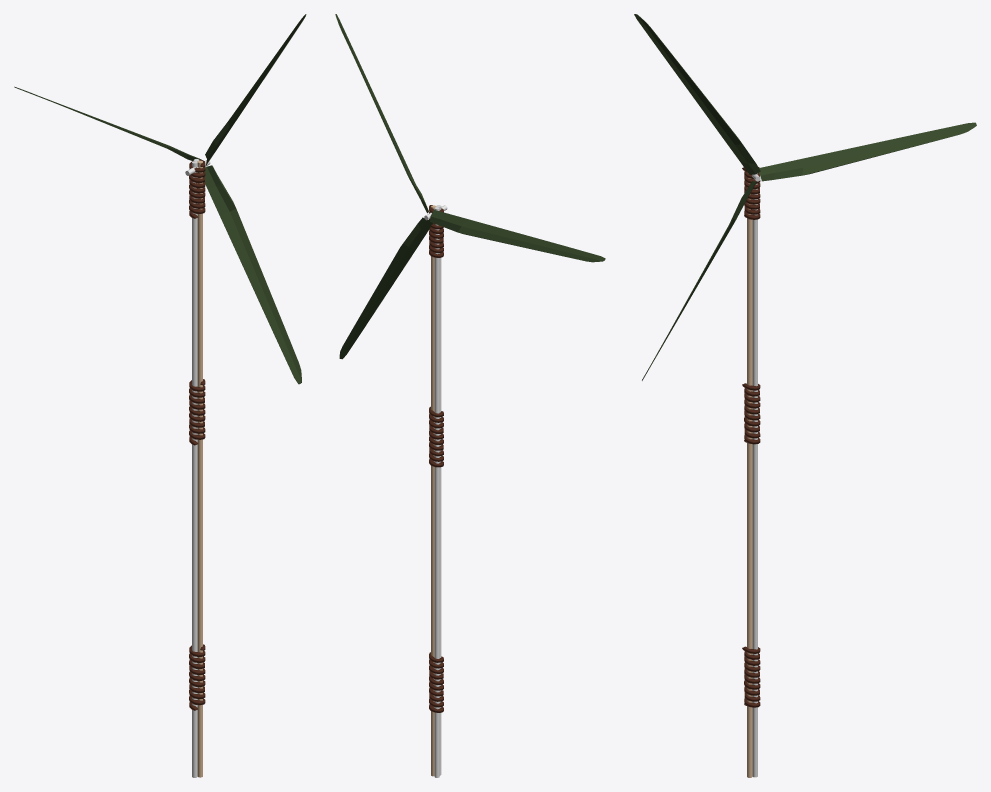
Rendered from Turbina.fbx.
3 renders of one model, left to right at view 1: azimuth 30°, elevation 25°; view 2: azimuth 210°, elevation 25°; view 3: azimuth 270°, elevation 25°, orthographic. The views are drawn at different scales.
Visible parts, largest first — view 1: Plane.015, Cylinder.010, Cylinder.011, Plane.013, TURBINE ROPE.006, TURBINE ROPE.008, TURBINE ROPE.007, Plane.014; view 2: Cylinder.013, Plane.014, Plane.015, Cylinder.010, Cylinder.011, Plane.013, TURBINE ROPE.008, TURBINE ROPE.006, TURBINE ROPE.007; view 3: Plane.014, Cylinder.010, Cylinder.013, Plane.013, TURBINE ROPE.006, TURBINE ROPE.008, Plane.015, TURBINE ROPE.007.
Part boxes in pixels (bbox=[...]): Plane.015: bbox=[204, 165, 301, 384]; Cylinder.010: bbox=[197, 160, 202, 777]; Cylinder.011: bbox=[192, 161, 197, 777]; Plane.013: bbox=[205, 14, 306, 165]; TURBINE ROPE.006: bbox=[189, 379, 205, 445]; TURBINE ROPE.008: bbox=[189, 644, 205, 710]; TURBINE ROPE.007: bbox=[189, 160, 205, 218]; Plane.014: bbox=[14, 86, 203, 160]; Cylinder.013: bbox=[434, 207, 439, 777]; Plane.014: bbox=[430, 210, 605, 262]; Plane.015: bbox=[339, 217, 432, 359]; Cylinder.010: bbox=[431, 205, 435, 776]; Cylinder.011: bbox=[436, 205, 441, 775]; Plane.013: bbox=[335, 14, 428, 213]; TURBINE ROPE.008: bbox=[429, 652, 443, 712]; TURBINE ROPE.006: bbox=[429, 406, 443, 467]; TURBINE ROPE.007: bbox=[429, 205, 443, 257]; Plane.014: bbox=[759, 122, 976, 181]; Cylinder.010: bbox=[747, 172, 752, 777]; Cylinder.013: bbox=[752, 173, 757, 777]; Plane.013: bbox=[634, 14, 760, 174]; TURBINE ROPE.006: bbox=[742, 383, 760, 444]; TURBINE ROPE.008: bbox=[742, 646, 760, 707]; Plane.015: bbox=[642, 181, 756, 380]; TURBINE ROPE.007: bbox=[742, 167, 760, 219].
Size of the model in its own units: 581 by 3598 by 1423.
